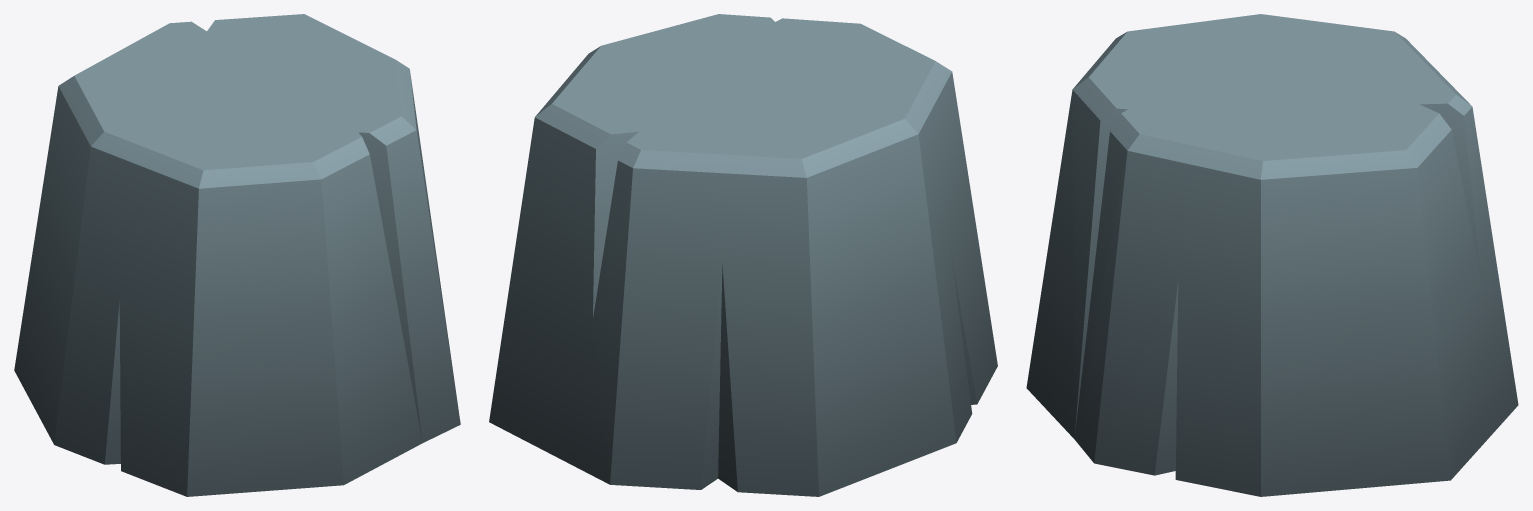
Rendered from stone large gray blue.fbx.
3 renders of one model, left to right at view 1: azimuth 30°, elevation 25°; view 2: azimuth 150°, elevation 25°; view 3: azimuth 270°, elevation 25°, orthographic. The views are drawn at different scales.
Visible parts, largest first — view 1: stone large gray blue; view 2: stone large gray blue; view 3: stone large gray blue.
Boxes of the visible parts, x1=… form: stone large gray blue: x1=14, y1=14, x2=460, y2=496; stone large gray blue: x1=489, y1=14, x2=997, y2=496; stone large gray blue: x1=1026, y1=14, x2=1518, y2=496.
Size of the model in its own units: 362 by 265 by 381.
